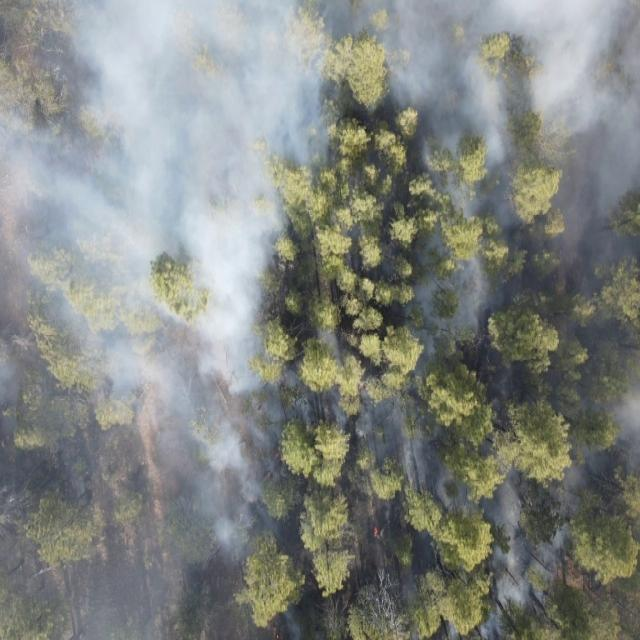fire: (271, 448, 283, 464), (370, 527, 382, 541), (272, 629, 282, 640)
smoke: (0, 0, 636, 570), (2, 570, 562, 640)
